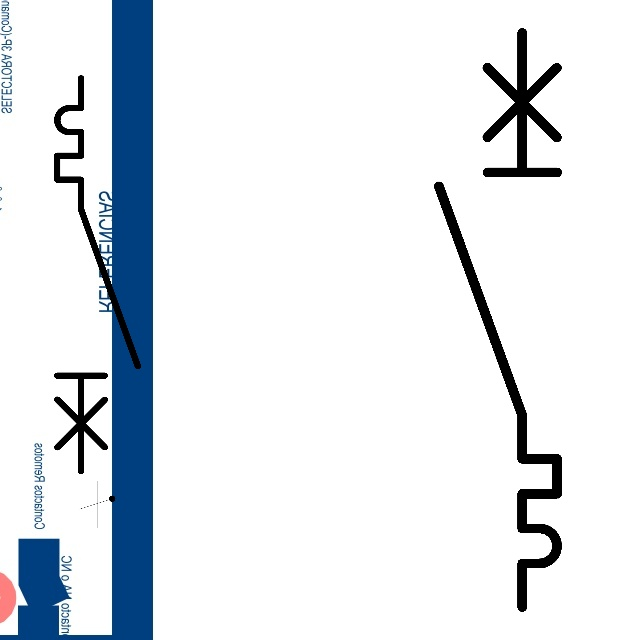interruptor_termomagnetico: (424, 18, 572, 622), (47, 68, 148, 481)
